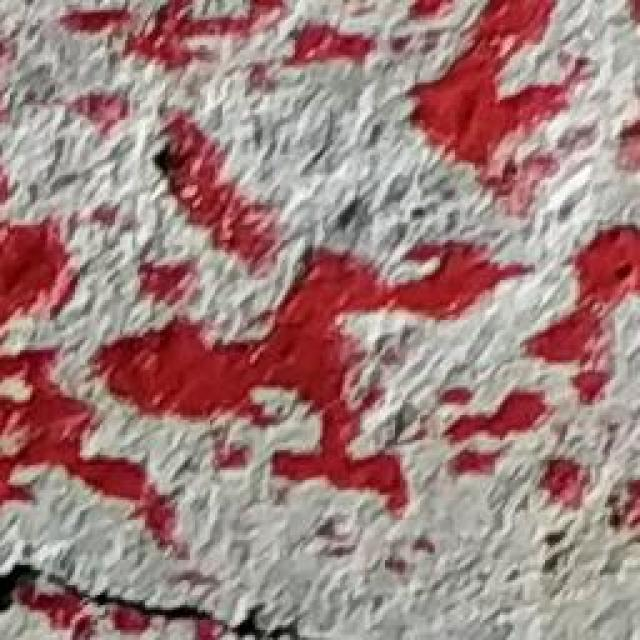Transverse: (0, 538, 301, 640)
